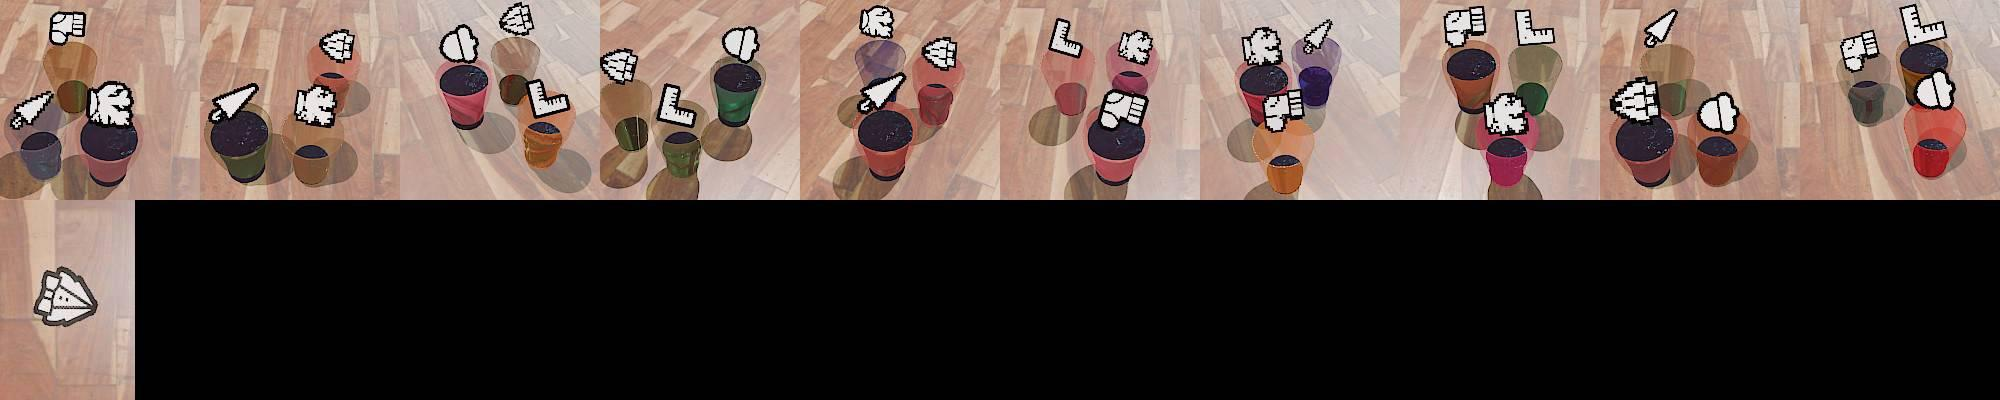icon: (32, 266, 98, 327), (1610, 76, 1662, 122), (857, 69, 907, 116), (87, 82, 135, 129), (656, 80, 702, 127), (1098, 87, 1148, 129), (1261, 88, 1307, 132), (1483, 92, 1531, 135), (209, 83, 260, 122), (1899, 3, 1945, 46), (293, 83, 338, 126), (1839, 27, 1881, 71), (1444, 5, 1489, 47), (8, 89, 54, 130), (1241, 25, 1284, 68), (1698, 90, 1740, 134), (526, 78, 571, 117), (1913, 69, 1957, 110), (1514, 8, 1555, 48), (439, 24, 480, 64), (721, 25, 760, 64), (1047, 18, 1083, 59), (601, 47, 639, 84), (1117, 28, 1154, 65), (1643, 9, 1677, 48), (48, 11, 87, 46), (921, 36, 958, 70), (858, 5, 895, 39), (319, 28, 356, 62), (497, 1, 534, 36), (1300, 19, 1333, 57)
